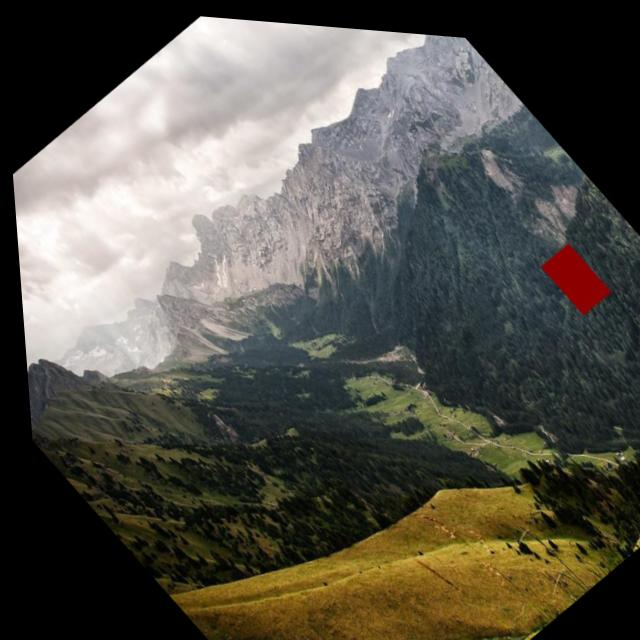RedSquare: (528, 222, 620, 317)
